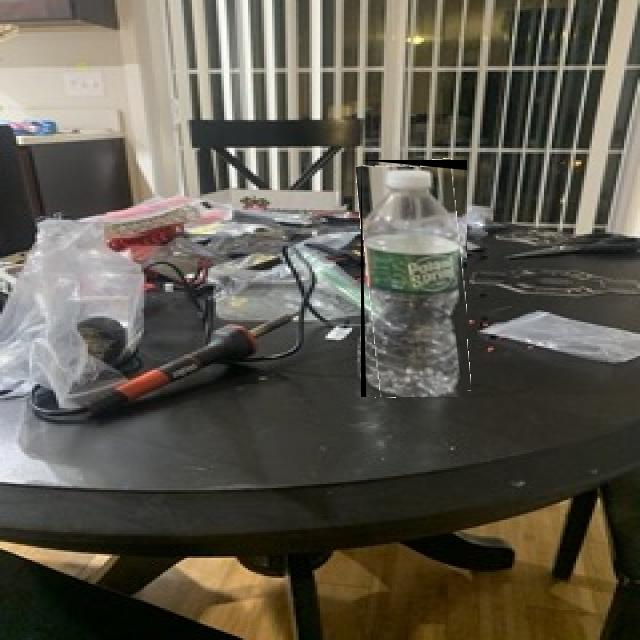water_bottle: (361, 160, 467, 397)
